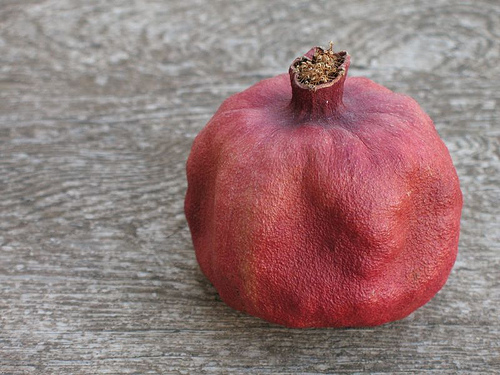pomogranate: (182, 45, 465, 331)
